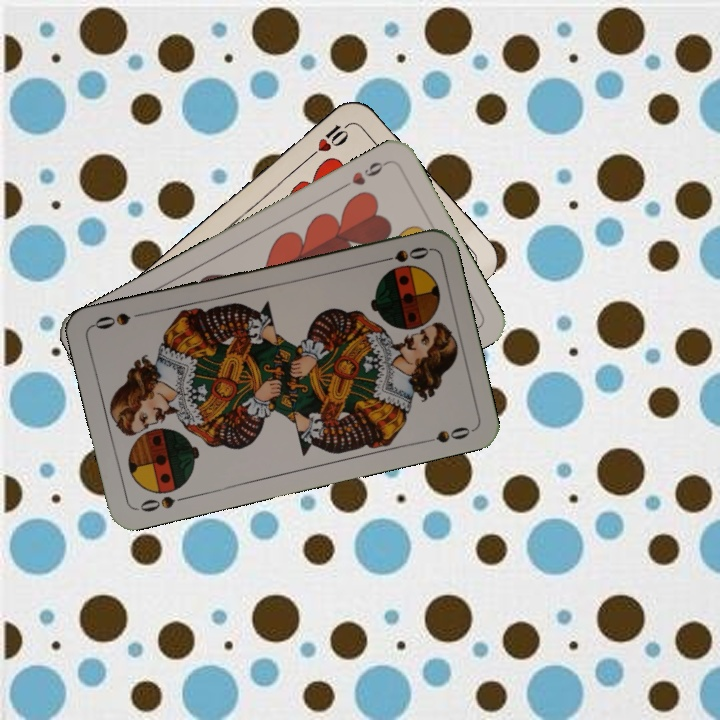H10: (305, 118, 355, 161)
H9: (336, 157, 391, 192)
SO: (373, 242, 432, 266), (133, 492, 192, 515)
